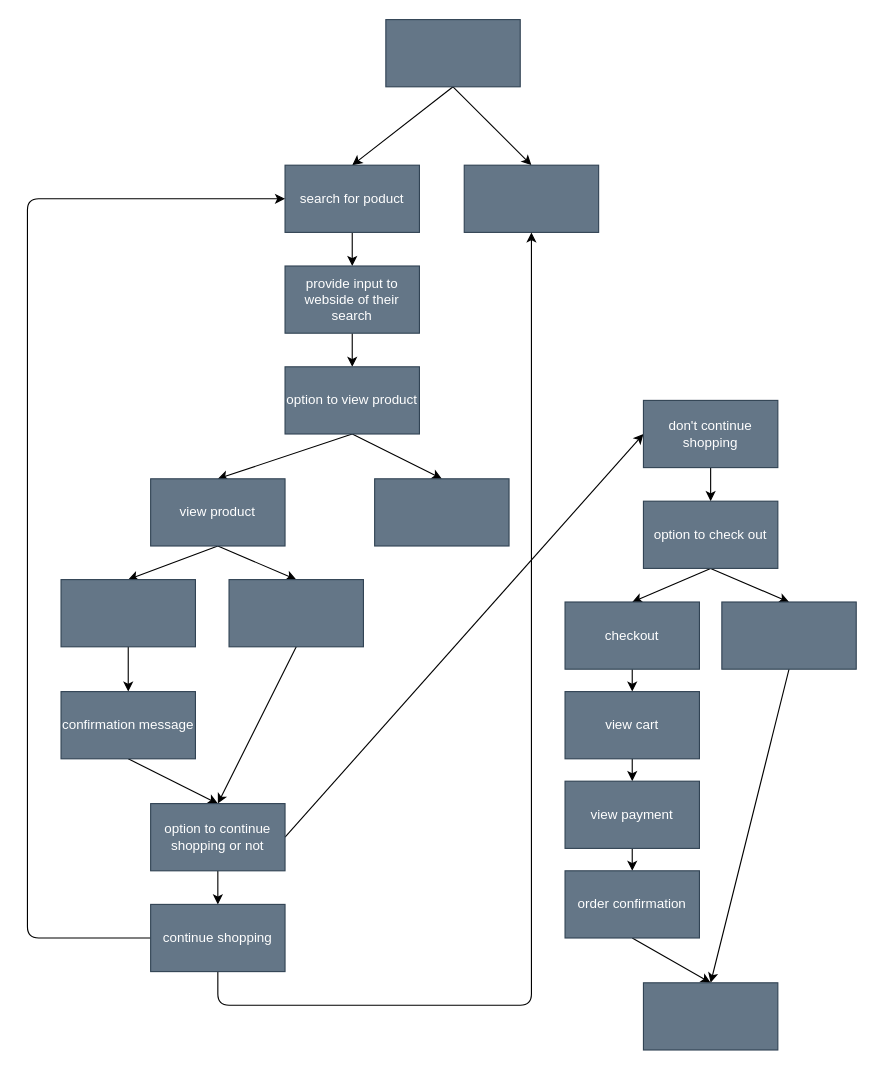
This 876x1070 diagram has some shape labels left out. Each missing label, with the centre of its shape:
"add to cart" belongs at pixel 127 612.
"don't checkout" belongs at pixel 788 635.
"dont add to cart" belongs at pixel 295 612.
"dont view product" belongs at pixel 441 512.
"explore on home page" belongs at pixel 531 198.
"leave website" belongs at pixel 710 1016.
"User enters website" belongs at pixel 452 52.
